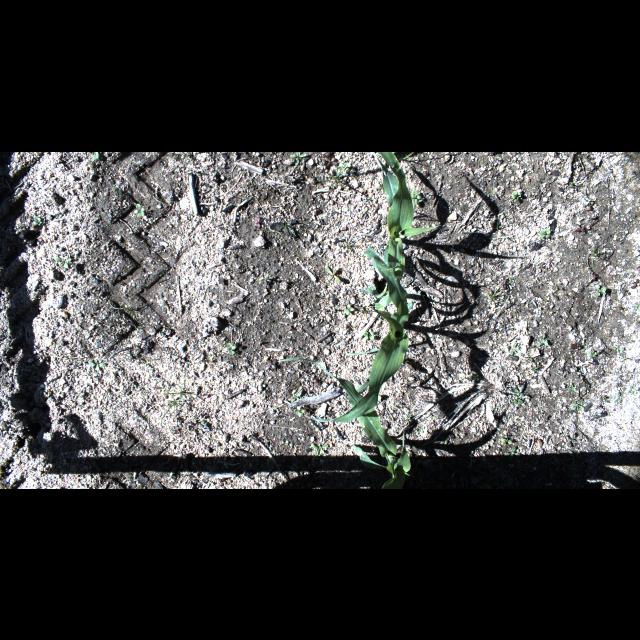crop: (308, 246, 410, 424), (281, 358, 411, 488), (370, 151, 440, 277)
weed: (144, 397, 182, 425), (311, 166, 351, 192), (106, 300, 142, 324), (485, 286, 521, 306), (161, 379, 195, 397), (272, 221, 300, 239), (585, 246, 605, 268), (321, 265, 344, 281), (51, 256, 75, 270), (288, 152, 310, 166), (510, 388, 526, 407), (534, 332, 550, 350), (564, 434, 582, 450), (411, 187, 424, 207), (312, 443, 330, 457), (504, 343, 522, 357), (324, 154, 341, 168), (134, 203, 148, 219), (109, 182, 123, 198), (264, 358, 280, 372), (361, 284, 377, 298), (288, 392, 306, 404), (258, 271, 272, 285), (342, 238, 356, 252), (509, 187, 523, 201), (530, 358, 544, 372), (612, 342, 626, 356), (536, 228, 552, 240), (504, 448, 520, 460), (572, 396, 586, 409), (89, 361, 107, 371), (498, 435, 516, 445), (594, 283, 606, 297), (574, 222, 588, 234), (564, 384, 580, 394), (455, 168, 471, 178), (31, 215, 43, 228), (614, 391, 626, 404), (568, 452, 580, 464), (227, 342, 237, 356), (362, 330, 376, 340), (440, 441, 452, 452), (345, 304, 355, 316), (293, 407, 305, 417), (579, 342, 589, 354), (626, 384, 638, 394), (421, 169, 433, 179), (358, 306, 369, 316), (588, 348, 598, 359), (592, 270, 602, 280), (630, 278, 638, 290), (340, 162, 350, 170), (198, 419, 206, 429), (507, 273, 515, 283), (92, 152, 100, 160)
